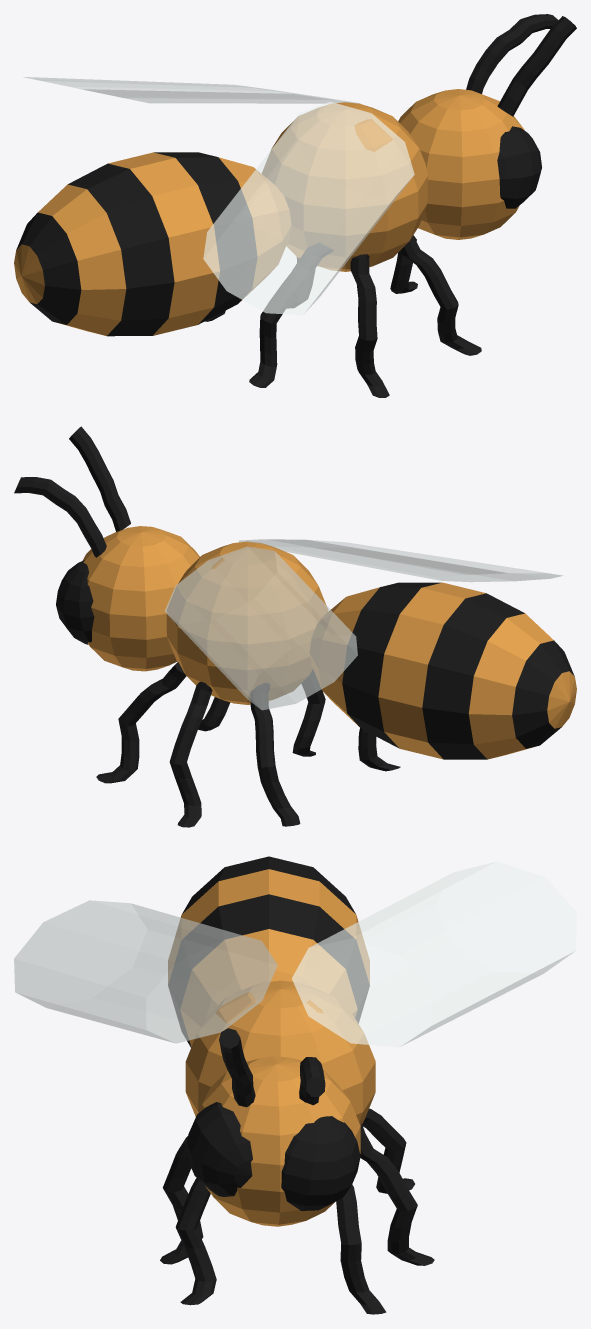
Rendered from Bee.glb.
3 renders of one model, top to bottom at view 1: azimuth 30°, elevation 25°; view 2: azimuth 150°, elevation 25°; view 3: azimuth 270°, elevation 25°, orthographic. The views are drawn at different scales.
Parts seen in each view (by area): view 1: group1147170821, group1284537710, group433261968, group165695018, group1747397838, group281193165, group1361532911, group1992860481, group916117618, group1444295615, group234171500, group1143103459; view 2: group1147170821, group1747397838, group433261968, group165695018, group1284537710, group1703551583, group383608342, group1143103459, group766564275, group234171500, group1444295615, group1992860481 (+2 smaller); view 3: group1747397838, group1284537710, group1147170821, group433261968, group165695018, group766564275, group1361532911, group383608342, group916117618, group1143103459, group1444295615, group1992860481 (+2 smaller).
Boxes of the visible parts, x1,y1,x2,y2 form: group1147170821: (14, 152, 291, 336); group1284537710: (203, 101, 414, 315); group433261968: (262, 102, 427, 271); group165695018: (398, 89, 524, 239); group1747397838: (23, 77, 360, 103); group281193165: (249, 242, 333, 387); group1361532911: (497, 126, 541, 208); group1992860481: (350, 254, 389, 397); group916117618: (401, 235, 481, 355); group1444295615: (497, 16, 576, 116); group234171500: (466, 14, 558, 93); group1143103459: (390, 235, 417, 293); group1147170821: (310, 582, 576, 759); group1747397838: (165, 546, 357, 710); group433261968: (166, 541, 327, 704); group165695018: (83, 526, 199, 671); group1284537710: (239, 539, 562, 582); group1703551583: (250, 683, 300, 826); group383608342: (169, 681, 212, 827); group1143103459: (96, 662, 186, 783); group766564275: (56, 560, 94, 644); group234171500: (14, 477, 106, 557); group1444295615: (69, 426, 130, 531); group1992860481: (292, 670, 325, 756); group1747397838: (292, 861, 576, 1047); group1284537710: (14, 900, 277, 1043); group1147170821: (168, 856, 369, 1047); group433261968: (185, 980, 375, 1125); group165695018: (199, 1056, 360, 1226); group766564275: (281, 1116, 360, 1210); group1361532911: (186, 1102, 252, 1196); group383608342: (360, 1124, 434, 1265); group916117618: (175, 1177, 216, 1305); group1143103459: (336, 1184, 386, 1314); group1444295615: (219, 1028, 255, 1107); group1992860481: (160, 1136, 203, 1264).
Size of the model in its own units: 0.3391 by 0.1792 by 0.2624.
